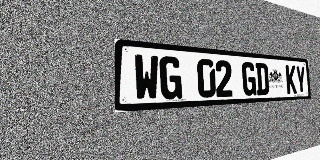0: (197, 58, 216, 98)
2: (215, 60, 232, 97)
D: (255, 63, 269, 95)
G: (159, 56, 182, 100), (242, 62, 257, 96)
K: (285, 65, 297, 94)
W: (134, 54, 159, 101)
Y: (296, 66, 306, 93)
